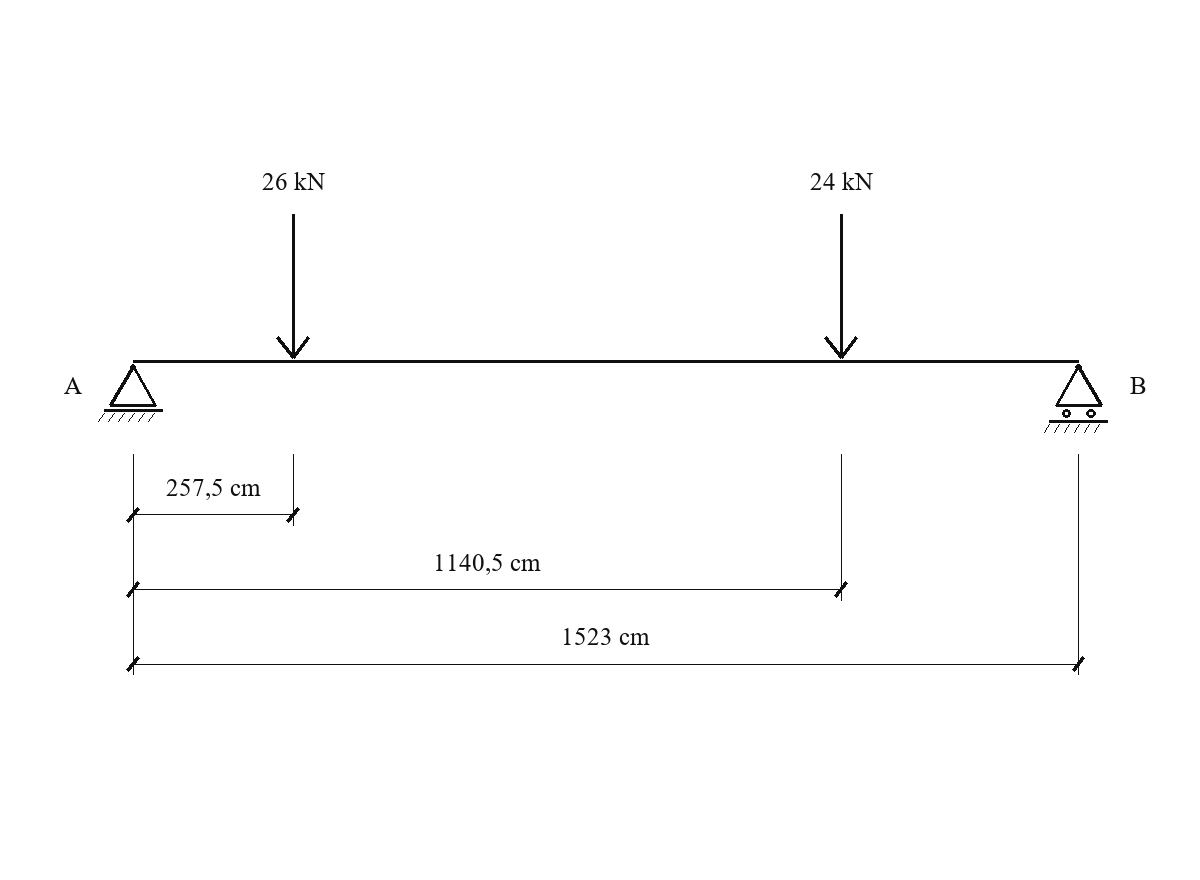pin_support: (98, 364, 163, 422)
point_load: (276, 214, 310, 359), (824, 214, 858, 359)
roller_support: (1044, 364, 1108, 433)
